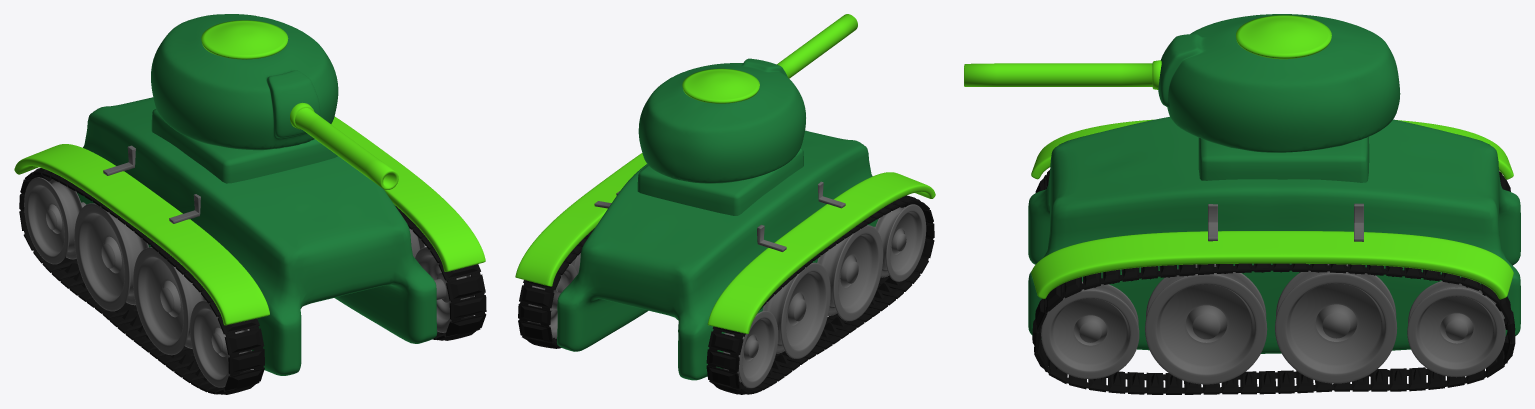
File: Tank - Don Juan.fbx
The picture shows the model from 3 angles, left to right: view 1: azimuth 30°, elevation 25°; view 2: azimuth 150°, elevation 25°; view 3: azimuth 270°, elevation 25°; orthographic projection. The views are drawn at different scales.
Visible parts, largest first — view 1: Plane.001, Cylinder.001, Wheels, Track Shield, Track B, Cube, Track A, Barrel, Track Shield Hinge; view 2: Plane.001, Cylinder.001, Wheels, Track Shield, Track B, Cube, Track A, Barrel, Track Shield Hinge; view 3: Plane.001, Wheels, Cylinder.001, Track Shield, Track A, Cube, Barrel, Track Shield Hinge.
Part boxes in pixels (bbox=[...]): Plane.001: bbox=[77, 97, 437, 375]; Cylinder.001: bbox=[151, 14, 338, 150]; Wheels: bbox=[24, 177, 474, 387]; Track Shield: bbox=[14, 116, 485, 325]; Track B: bbox=[19, 168, 264, 394]; Cube: bbox=[151, 109, 337, 183]; Track A: bbox=[395, 205, 486, 340]; Barrel: bbox=[290, 102, 398, 189]; Track Shield Hinge: bbox=[103, 145, 200, 223]; Plane.001: bbox=[557, 130, 878, 380]; Cylinder.001: bbox=[638, 58, 805, 183]; Wheels: bbox=[527, 204, 926, 388]; Track Shield: bbox=[515, 153, 935, 333]; Track B: bbox=[706, 195, 934, 394]; Cube: bbox=[637, 148, 803, 215]; Track A: bbox=[518, 228, 594, 348]; Barrel: bbox=[777, 14, 857, 78]; Track Shield Hinge: bbox=[594, 181, 845, 251]; Plane.001: bbox=[1028, 116, 1520, 353]; Wheels: bbox=[1041, 264, 1505, 384]; Cylinder.001: bbox=[1158, 14, 1400, 152]; Track Shield: bbox=[1031, 119, 1513, 299]; Track A: bbox=[1032, 263, 1515, 394]; Cube: bbox=[1198, 137, 1369, 182]; Barrel: bbox=[964, 60, 1161, 89]; Track Shield Hinge: bbox=[1208, 203, 1363, 241].
Size of the model in its own units: 247 by 248 by 414.
